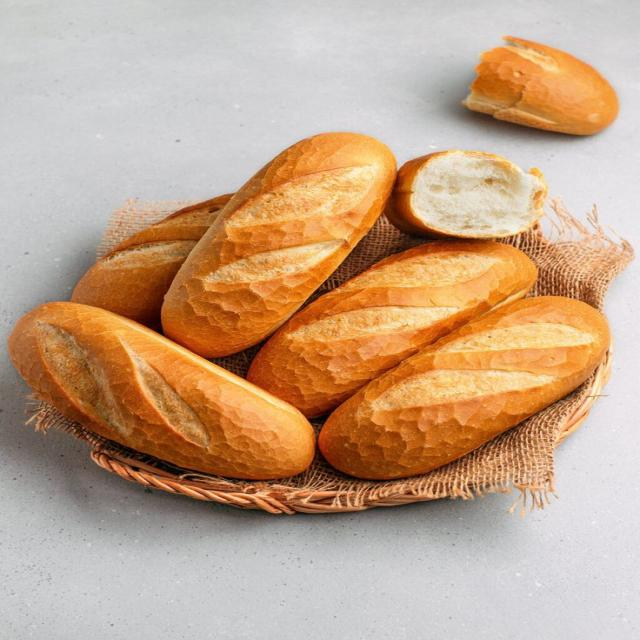bread: (9, 303, 314, 479), (320, 297, 610, 479), (162, 133, 395, 357), (248, 241, 536, 417), (72, 195, 231, 326), (463, 37, 618, 135), (387, 149, 547, 238)
